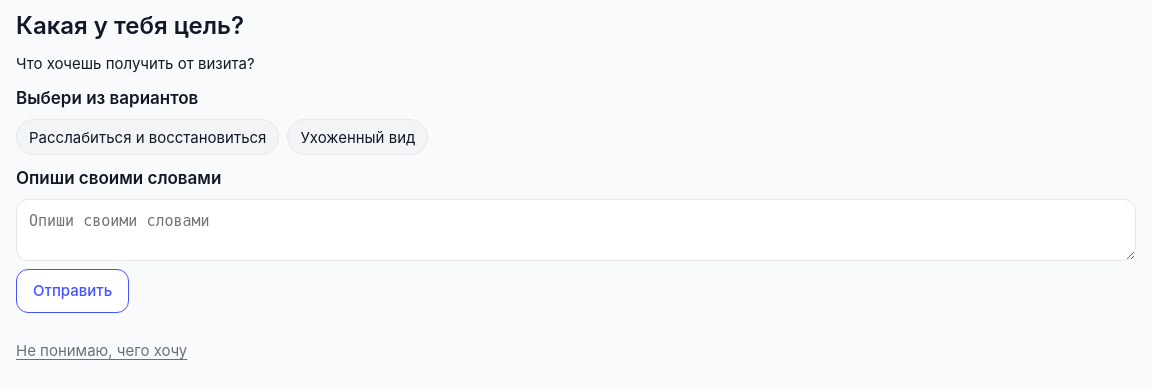
it: GoalSelectScreen (dumb renderer over the decision document) › need_guidance button → postGoalSelect({intent}) → renders the guidance prompt from missing
Click the button "Не понимаю, чего хочу": [102, 351] box [16,329,187,373]
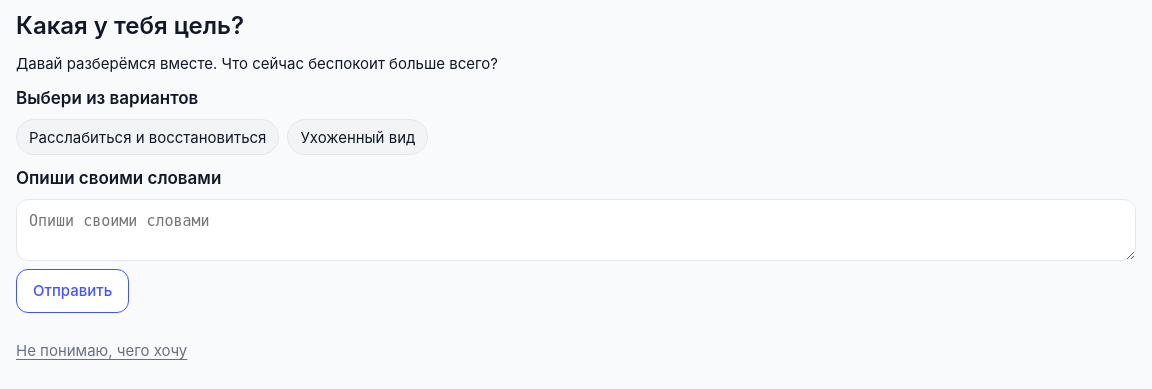
Result: the text "Давай разберёмся вместе. Что сейчас беспокоит больше всего?" is shown at [16,54,498,73]
